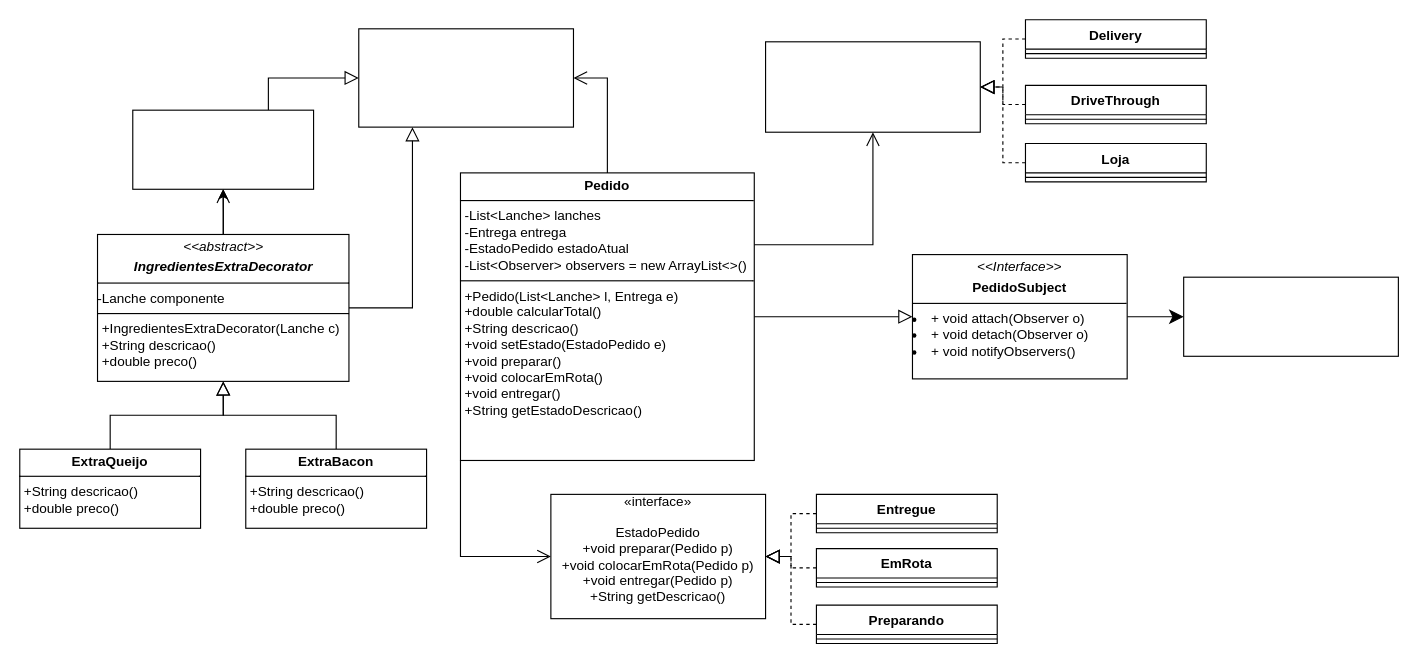
Some shapes in this 1418 by 663 pixel diagram are drawn without their labels. Each missing label, with the centre of its shape:
"<<Interface>> Entrega +void processar(Pedido p)" belongs at (x=872, y=86).
"<<Interface>> Lanche +String descricao() +double preco()" belongs at (x=465, y=77).
"<<Interface>> Observer + void update(Pedido p)" belongs at (x=1290, y=316).
"Hamburguer +String descricao() +double preco()" belongs at (x=223, y=149).
